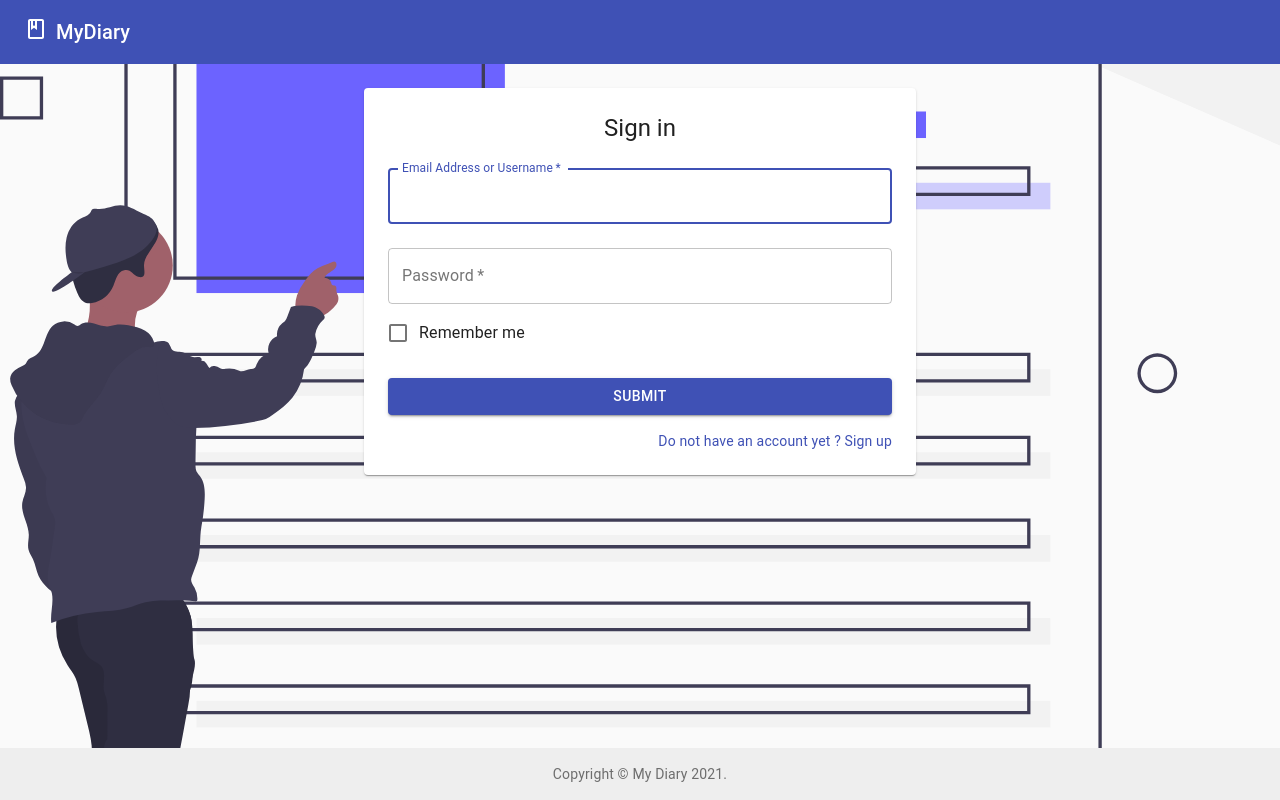
Signin page should render › does not navigate to dashboard when login is not successful if input is not valid
The image size is (1280, 800).
Click the button "Submit".
click(640, 396)  # box [388,378,892,414]
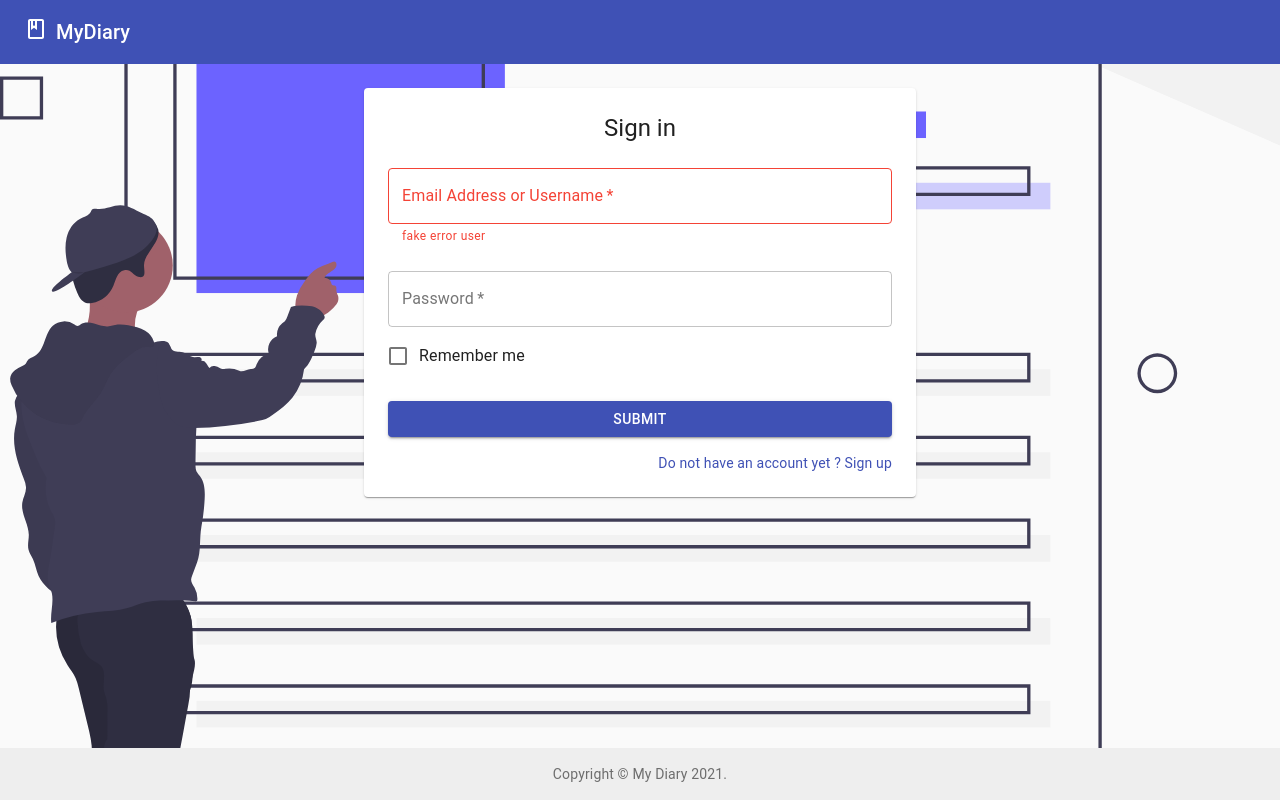
Now the text "fake error user" is shown, box [402,229,486,243]
Type "barfoo@mail.com" into the field labelled "Email Address or Username *".
click(640, 196); type("barfoo@mail.com")  # box [388,168,892,224]
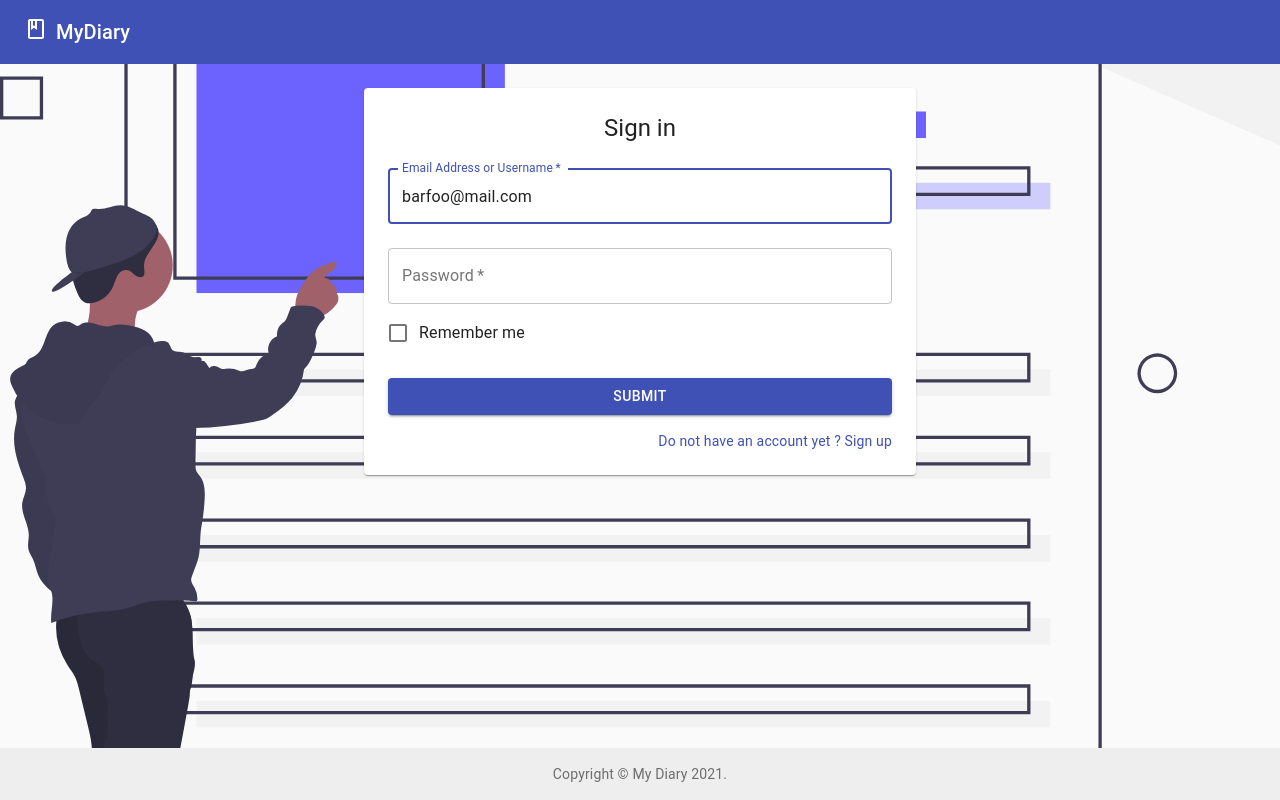
Click the button "Submit".
click(640, 396)  # box [388,378,892,414]
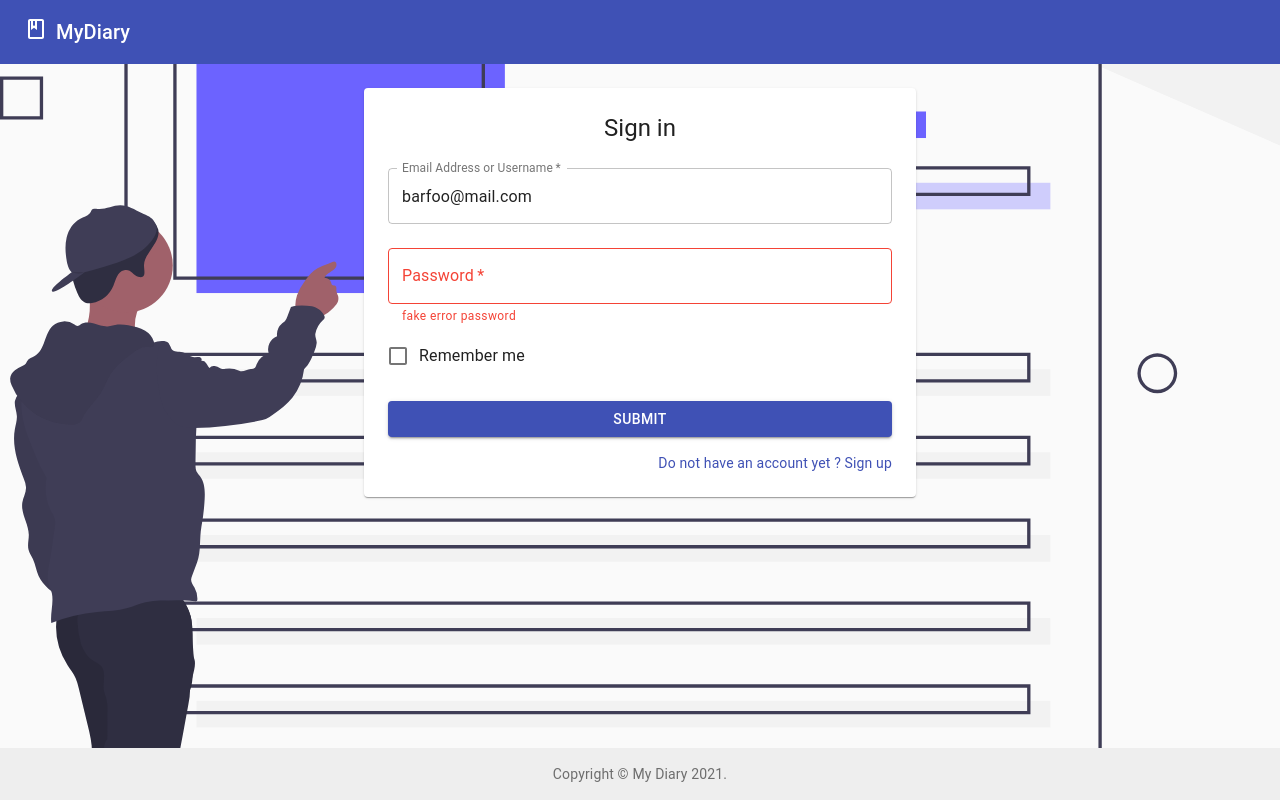
Now the text "fake error password" is shown, box [402,309,516,323]
